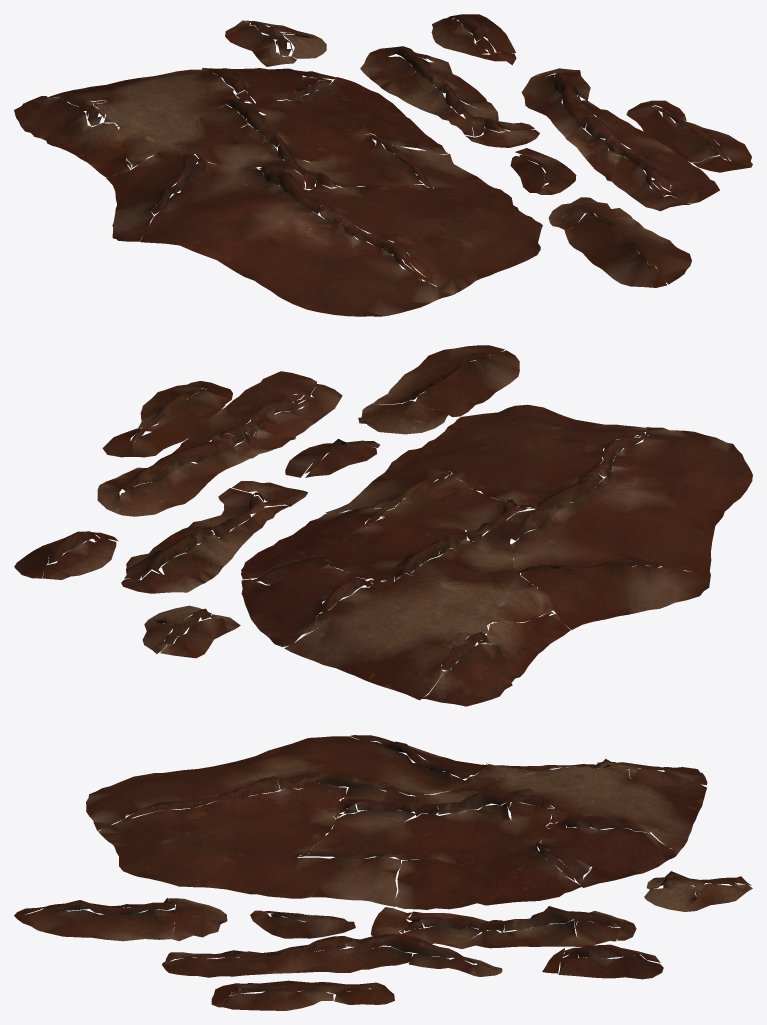
Rendered from root_cluster_02.glb.
The picture shows the model from 3 angles, top to bottom: view 1: azimuth 30°, elevation 25°; view 2: azimuth 150°, elevation 25°; view 3: azimuth 270°, elevation 25°; orthographic projection. The views are drawn at different scales.
Parts seen in each view (by area): view 1: root_cluster_02_d; view 2: root_cluster_02_d; view 3: root_cluster_02_d.
Boxes of the visible parts, box(x1,y1,x2,y2) form: root_cluster_02_d: box(14, 14, 752, 316); root_cluster_02_d: box(14, 345, 752, 706); root_cluster_02_d: box(14, 735, 752, 1010).
Size of the model in its own units: 2.38 by 0.1983 by 2.71.
1 material, 1 textured.
